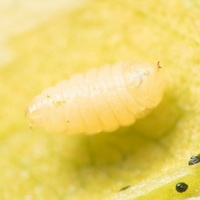insect: (25, 62, 164, 133), (188, 154, 199, 164)
